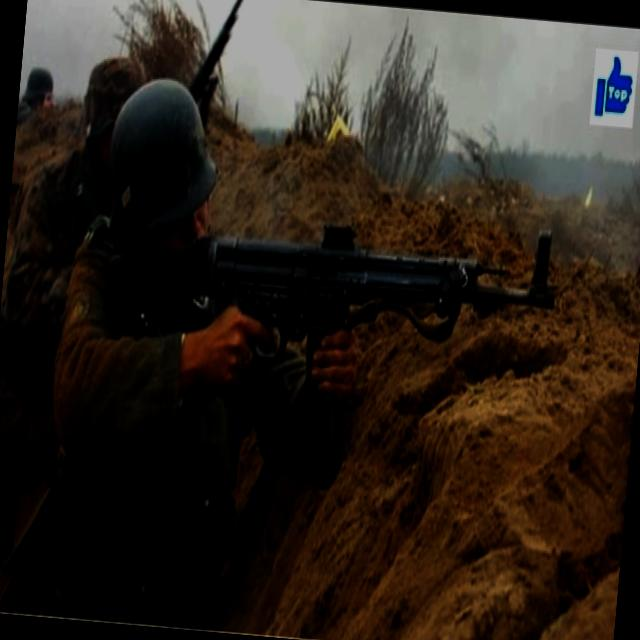ak: (99, 192, 570, 508)
